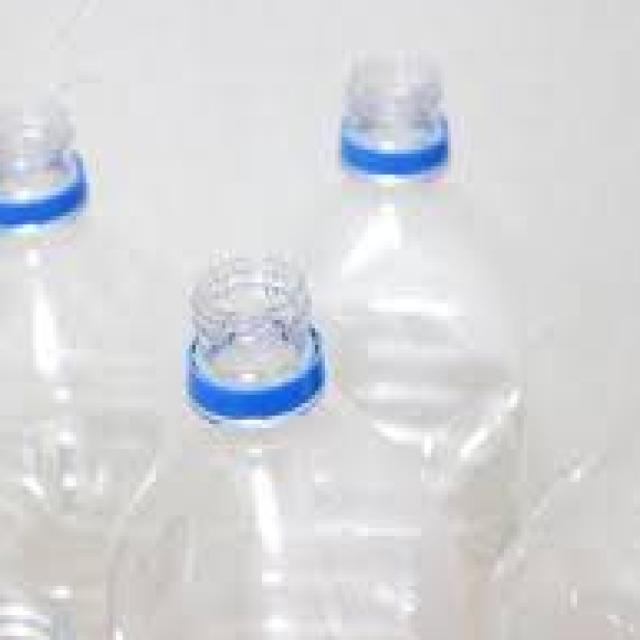organic: (6, 13, 562, 594)
